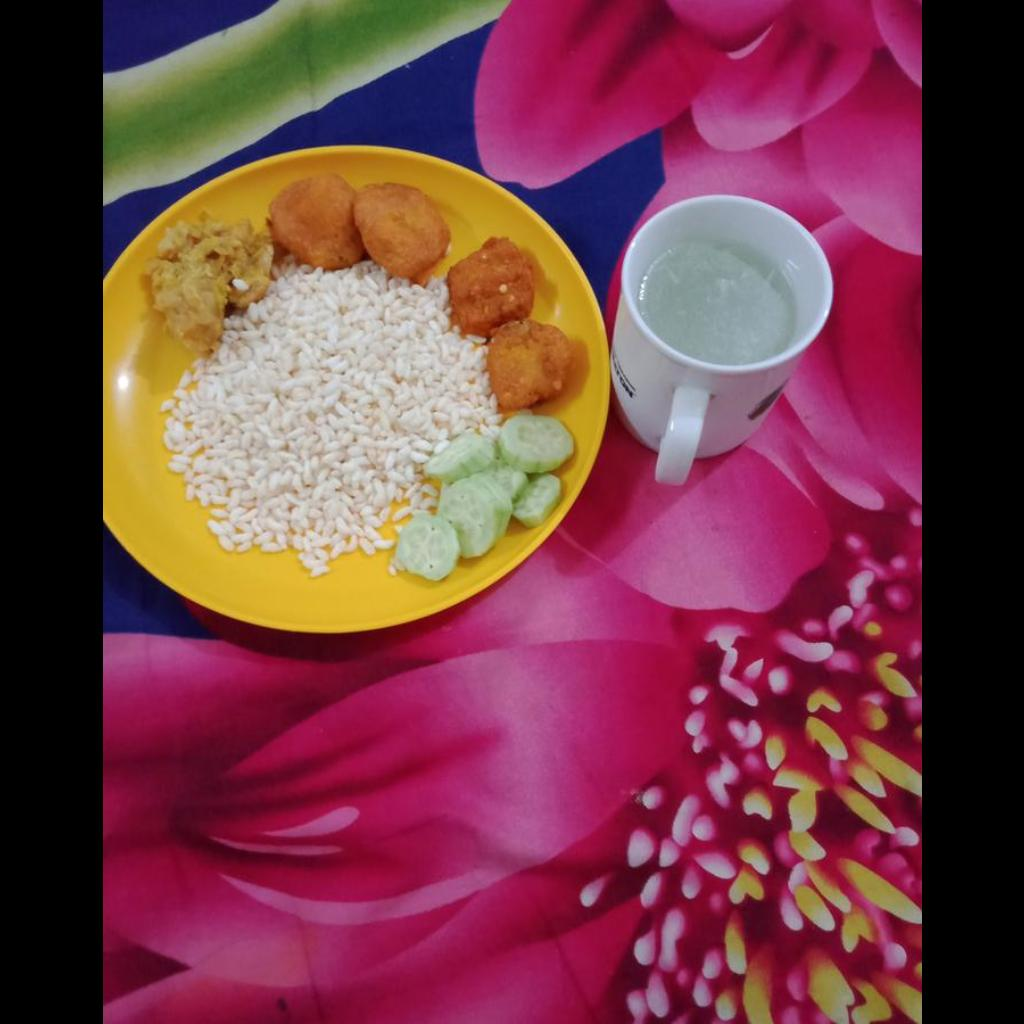chop-alu: (265, 174, 448, 269)
cucumber: (383, 404, 576, 580)
juice: (645, 245, 795, 361)
peyaju: (448, 240, 562, 401)
puffed-rice: (167, 263, 478, 558)
